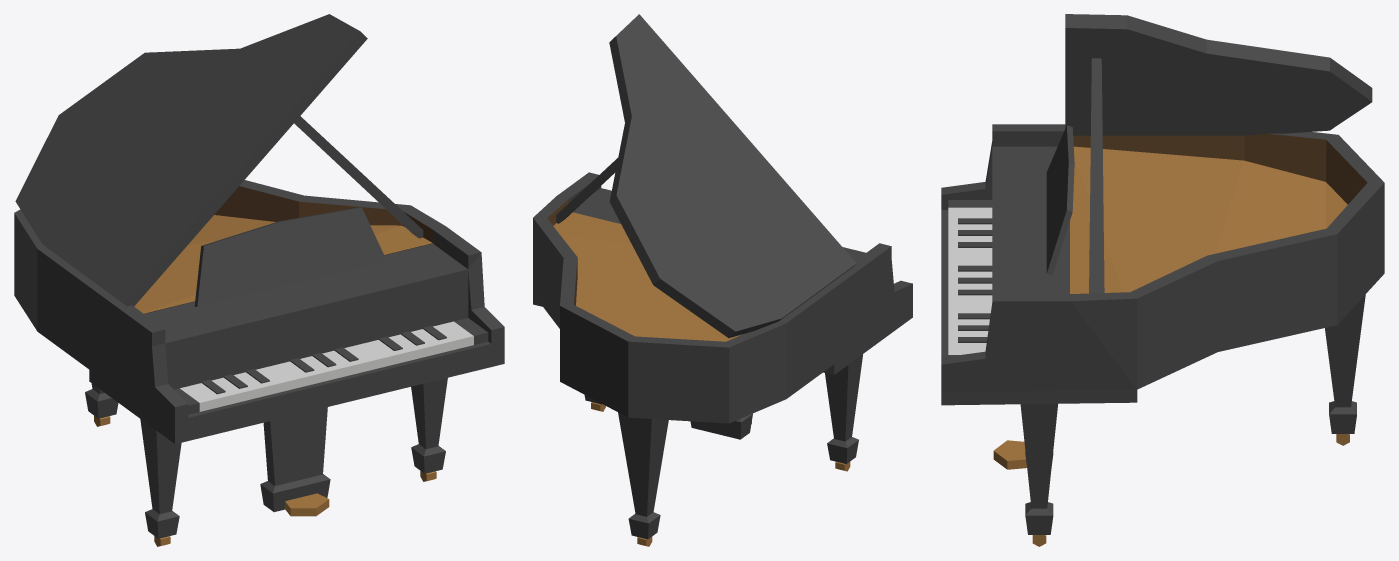
Rendered from piano.fbx.
3 renders of one model, left to right at view 1: azimuth 30°, elevation 25°; view 2: azimuth 150°, elevation 25°; view 3: azimuth 270°, elevation 25°, orthographic. The views are drawn at different scales.
Parts seen in each view (by area): view 1: piano; view 2: piano; view 3: piano.
Part boxes in pixels (x1,y1,x2,y2): piano: (14,14,504,546); piano: (533,14,912,546); piano: (941,14,1384,546).
Bounding box in the file's own units: 1.49 × 1.96 × 1.58.
